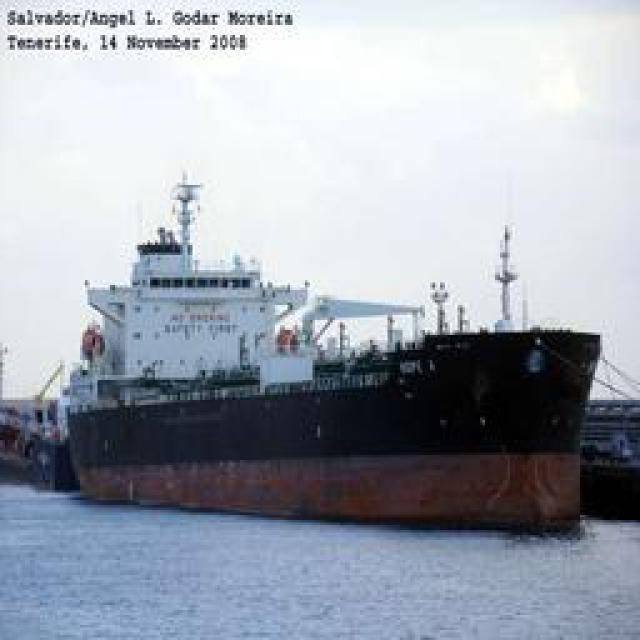Ship: (55, 133, 605, 511)
